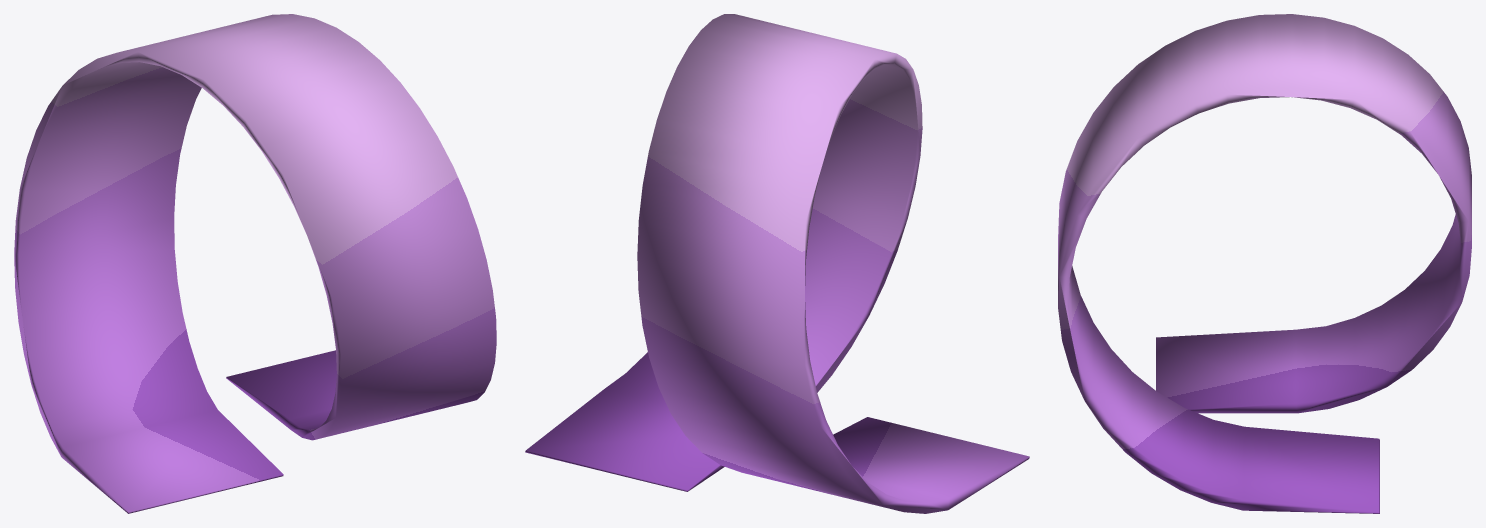
Rendered from loop.fbx.
3 renders of one model, left to right at view 1: azimuth 30°, elevation 25°; view 2: azimuth 150°, elevation 25°; view 3: azimuth 270°, elevation 25°, orthographic. The views are drawn at different scales.
Parts seen in each view (by area): view 1: looping; view 2: looping; view 3: looping.
Part boxes in pixels (box(x1,y1,x2,y2)): looping: box(14, 14, 496, 513); looping: box(525, 14, 1029, 513); looping: box(1058, 14, 1471, 513).
Bounding box in the file's own units: 25 × 25 × 25.
